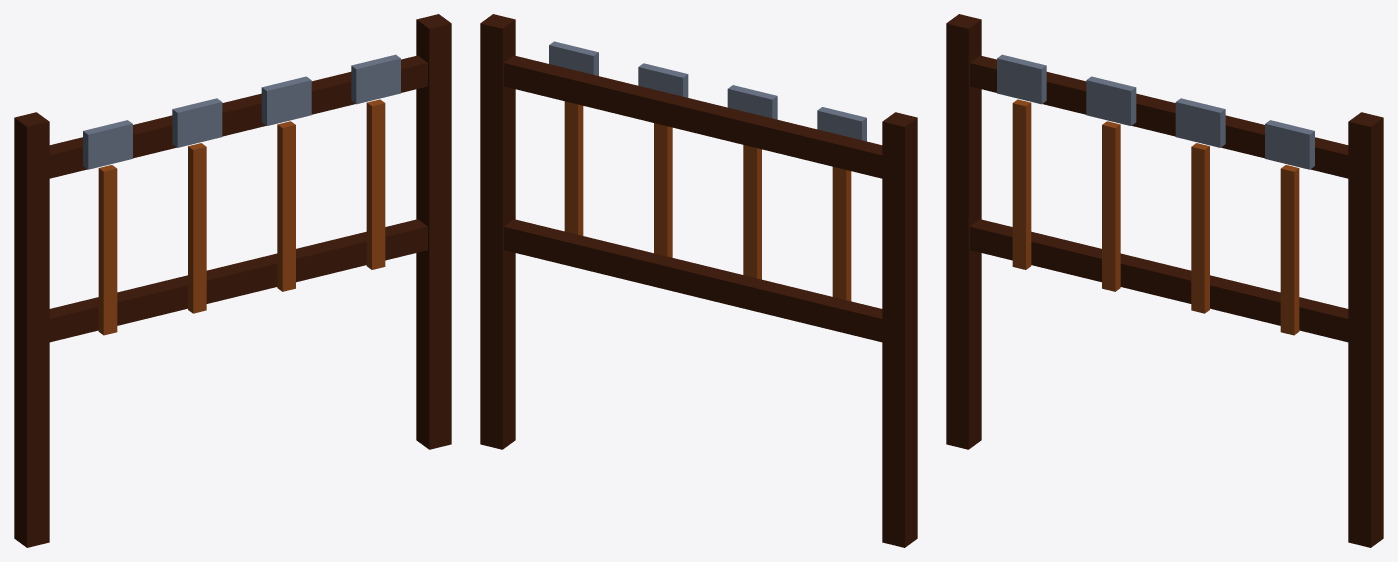
File: tool_rack.obj
3 views of the same model, side by side, from view 1: azimuth 30°, elevation 25°; view 2: azimuth 150°, elevation 25°; view 3: azimuth 330°, elevation 25° (orthographic).
Parts seen in each view (by area): view 1: tool_rack; view 2: tool_rack; view 3: tool_rack.
Part boxes in pixels (left/top/right/bottom): tool_rack: left=14, top=14, right=451, bottom=547; tool_rack: left=480, top=14, right=917, bottom=547; tool_rack: left=946, top=14, right=1383, bottom=547.
Bounding box in the file's own units: 1.9 × 1.8 × 0.14.
